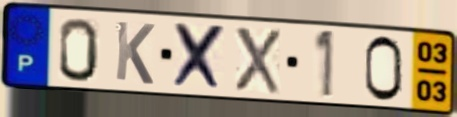0: (57, 16, 102, 84), (363, 33, 405, 103)
1: (312, 28, 337, 102)
K: (113, 18, 157, 87)
X: (171, 21, 229, 94), (232, 24, 283, 97)
